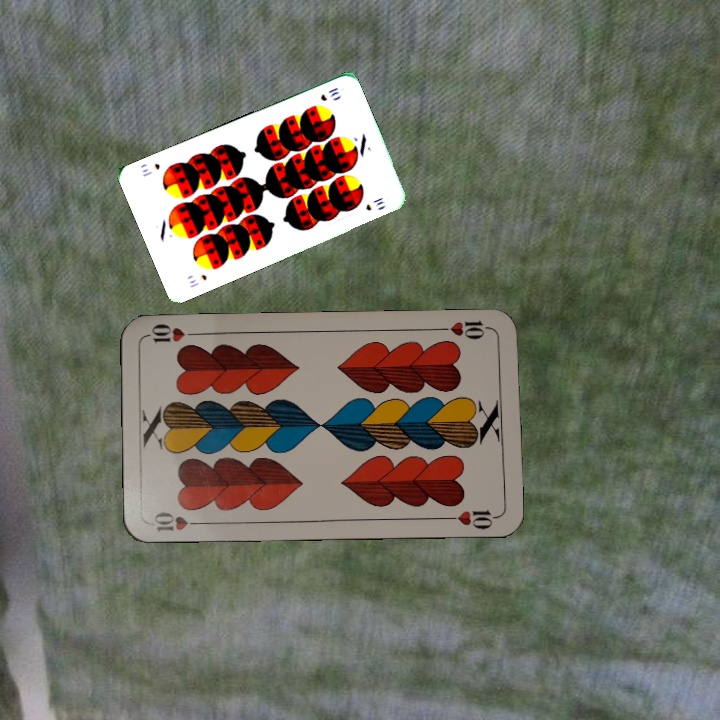H10: (435, 316, 494, 342), (150, 508, 207, 534)
S10: (316, 83, 342, 104), (185, 270, 209, 290)
